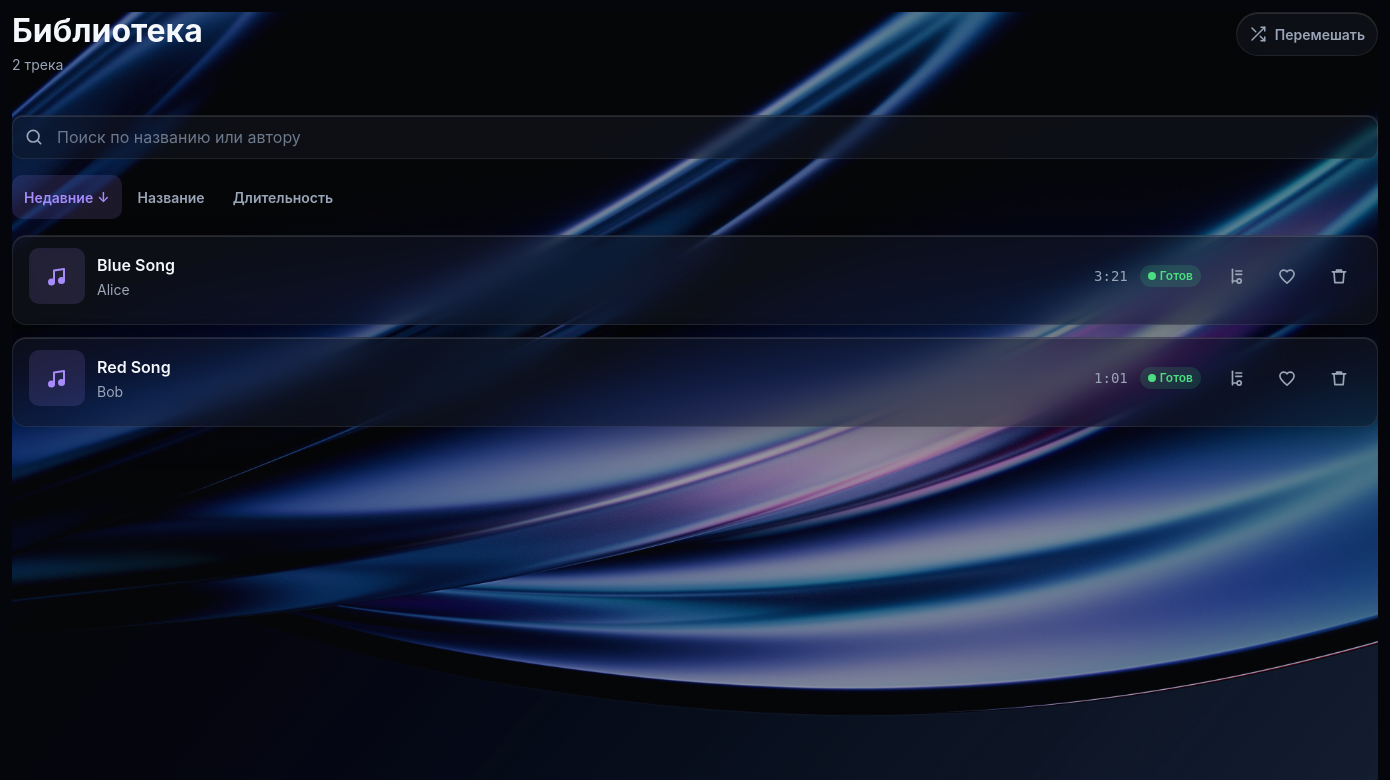
LibraryView › marks the current row with the current class and the equalizer
Click the list item with class "track-row" showing "Red Song Bob 1:01 Готов".
click(695, 382)  # box x1=12 y1=337 x2=1378 y2=427
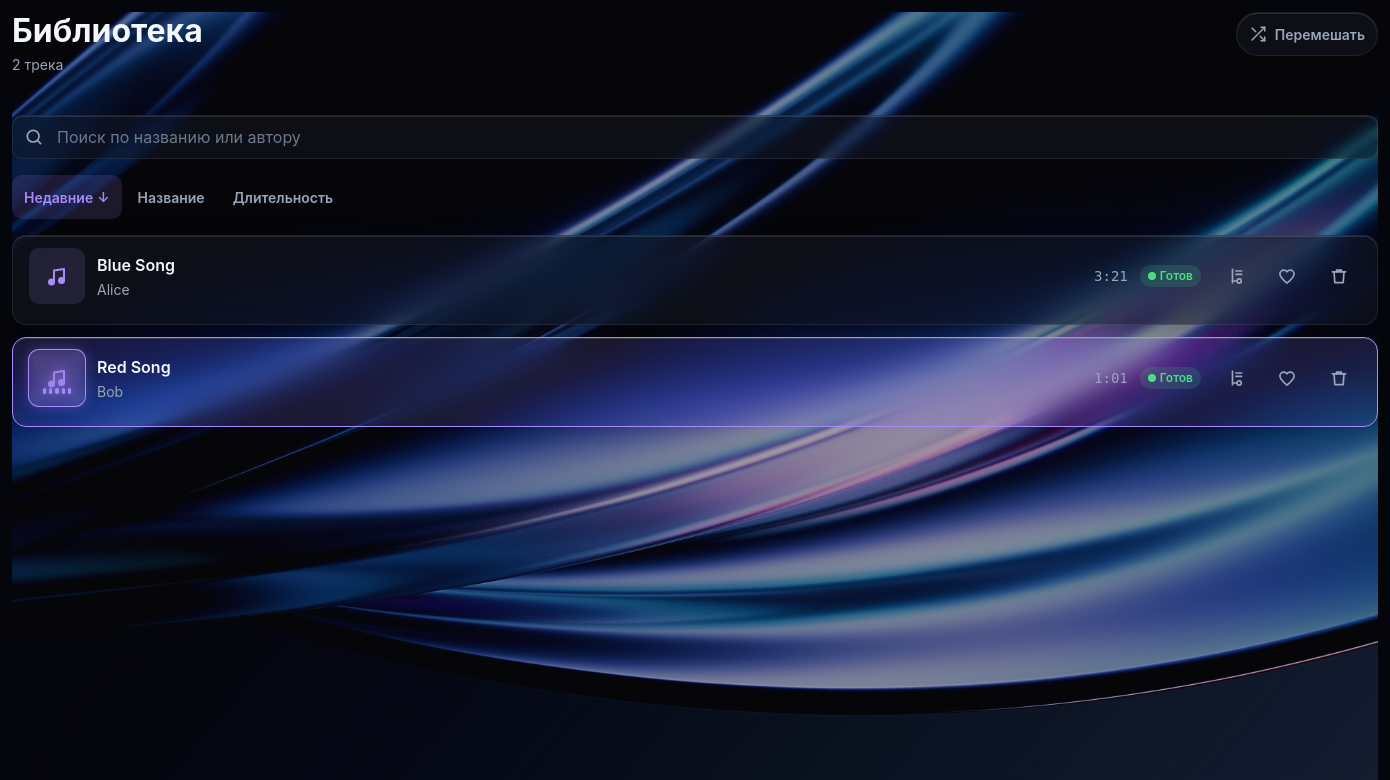
Expected: the element with class "track-row__equalizer" is shown, x1=43 y1=388 x2=71 y2=394
